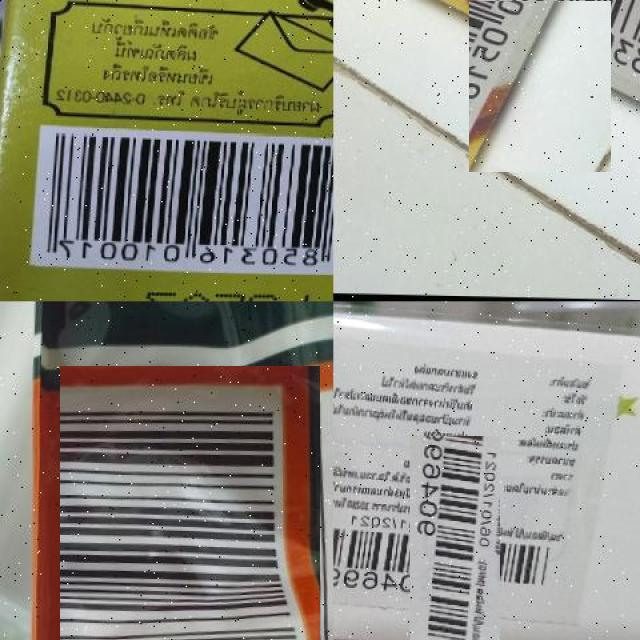Barcode: (53, 373, 328, 640), (35, 134, 333, 274), (372, 474, 540, 640), (454, 0, 626, 158)
